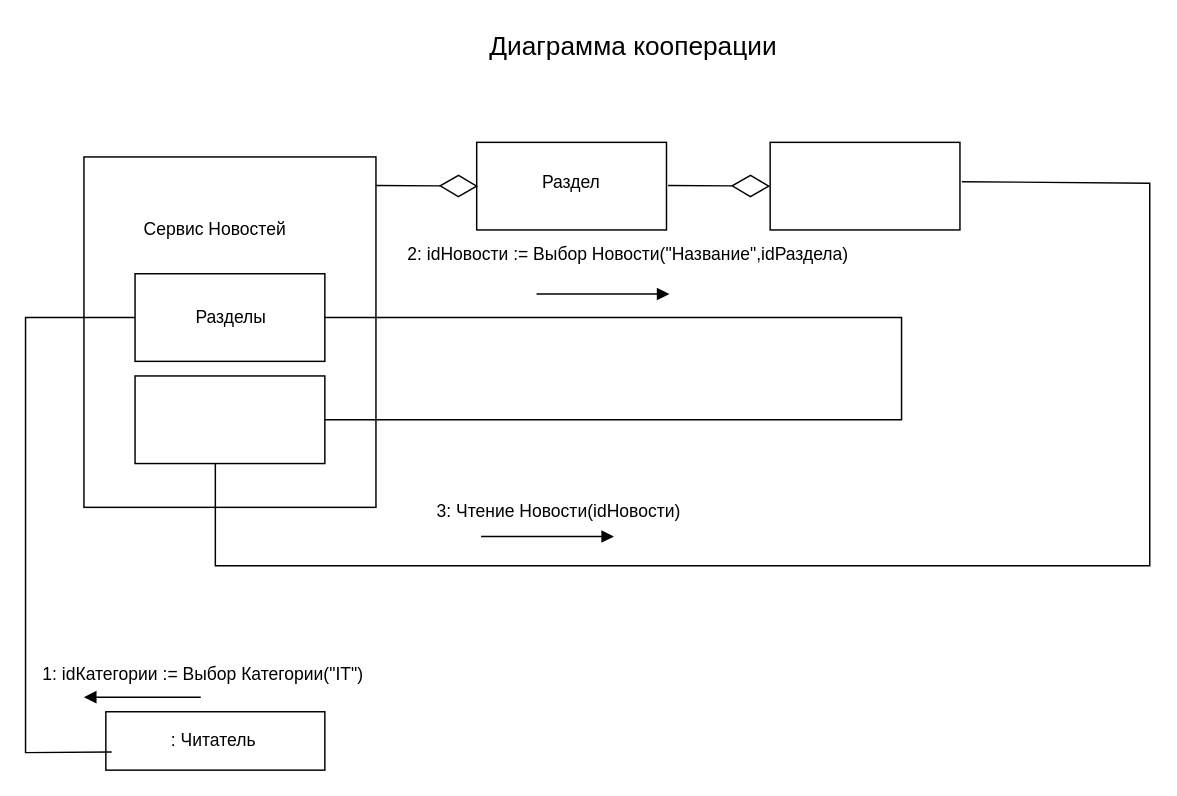
Some shapes in this 1177 by 796 pixel diagram are drawn without their labels. The shapes that lost their labels are listed below. From the top down, each one's centre as x and y in pixels, then its label:
At (x=864, y=185): "Новость".
At (x=229, y=419): "Новости".
